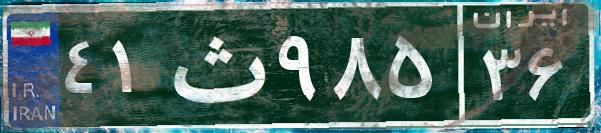1: (110, 28, 158, 105)
3: (475, 38, 525, 113)
4: (57, 26, 110, 107)
5: (385, 28, 445, 110)
6: (525, 38, 570, 115)
8: (330, 28, 385, 110)
9: (273, 28, 330, 110)
ث: (158, 15, 273, 115)
